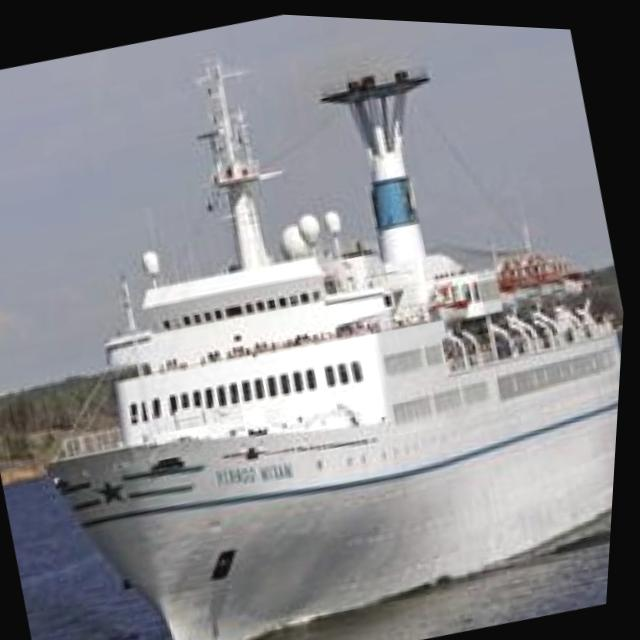ship2: (40, 52, 625, 640)
